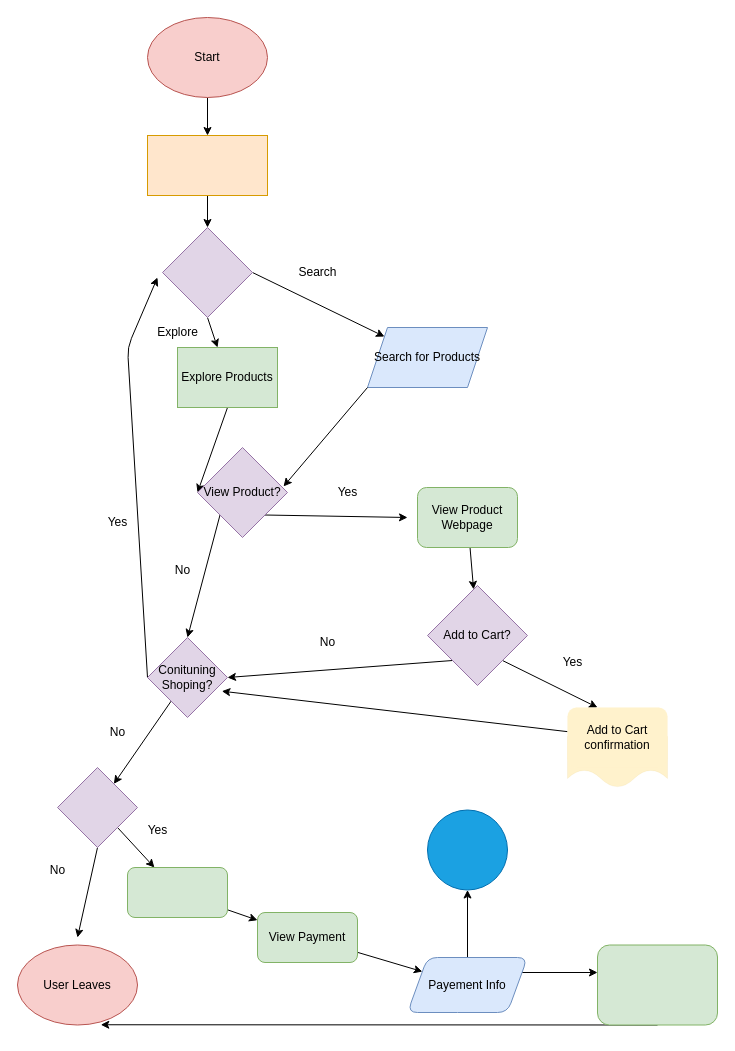
This 735x1051 diagram has some shape labels left out. The centre of each missing label's shape, as x and y in pixels:
Checkout: [97,807]
Email Order Confirmation: [467,849]
Order Confimation Screen: [657,984]
Search or explore: [207,272]
User enteres website landed on homepage: [207,165]
View Cart: [177,892]
